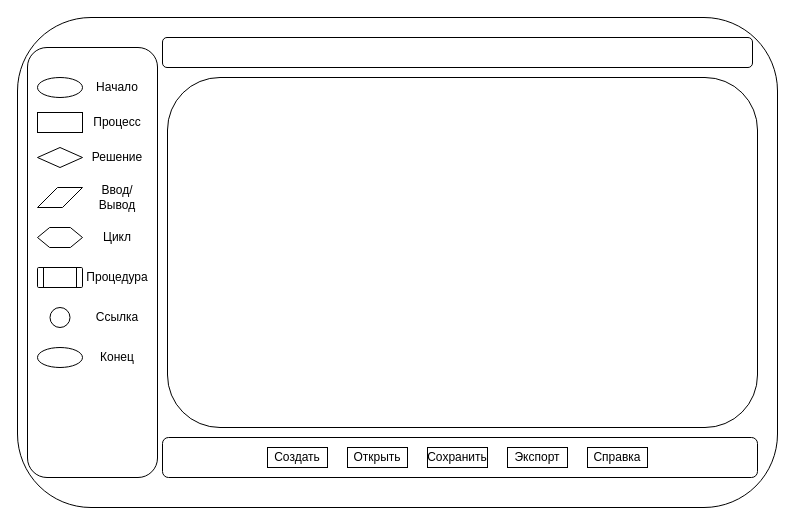
Image size: 795x525. Some labels were removed from this diagram. Here are the shapes that lost their labels. From the top down, the centre of each, then its label:
point (457, 52): Вкладка 1 / Вкладка 2 / и т.д
point (462, 252): Рабочее окно программы
